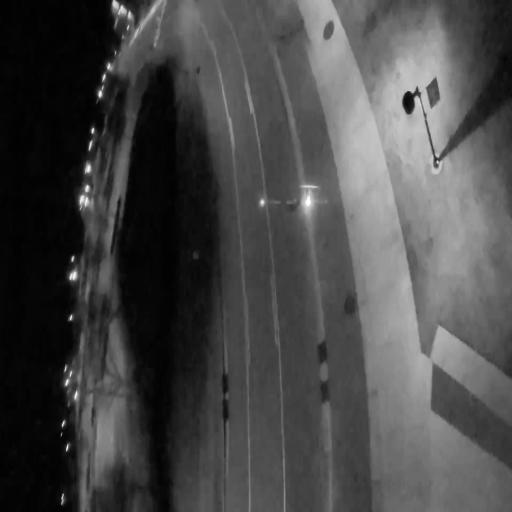uav: (258, 180, 328, 218)
